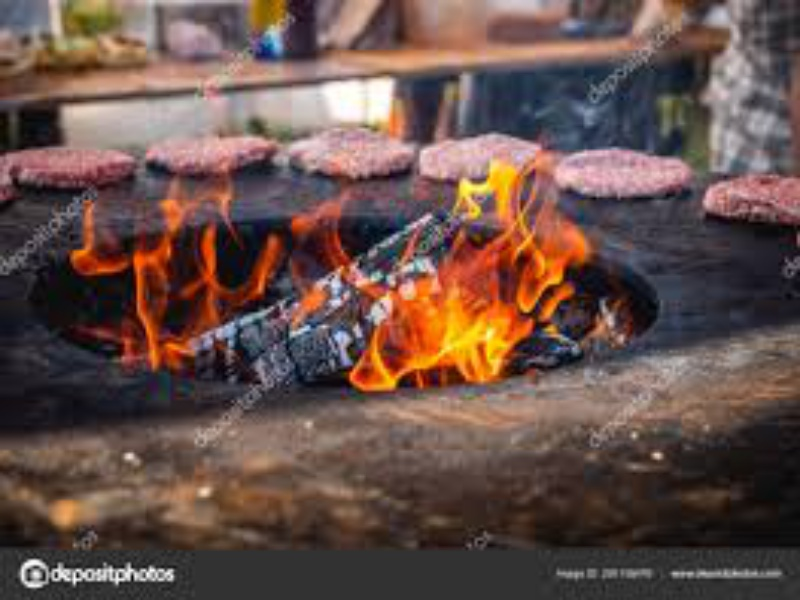fire: (70, 174, 596, 391)
